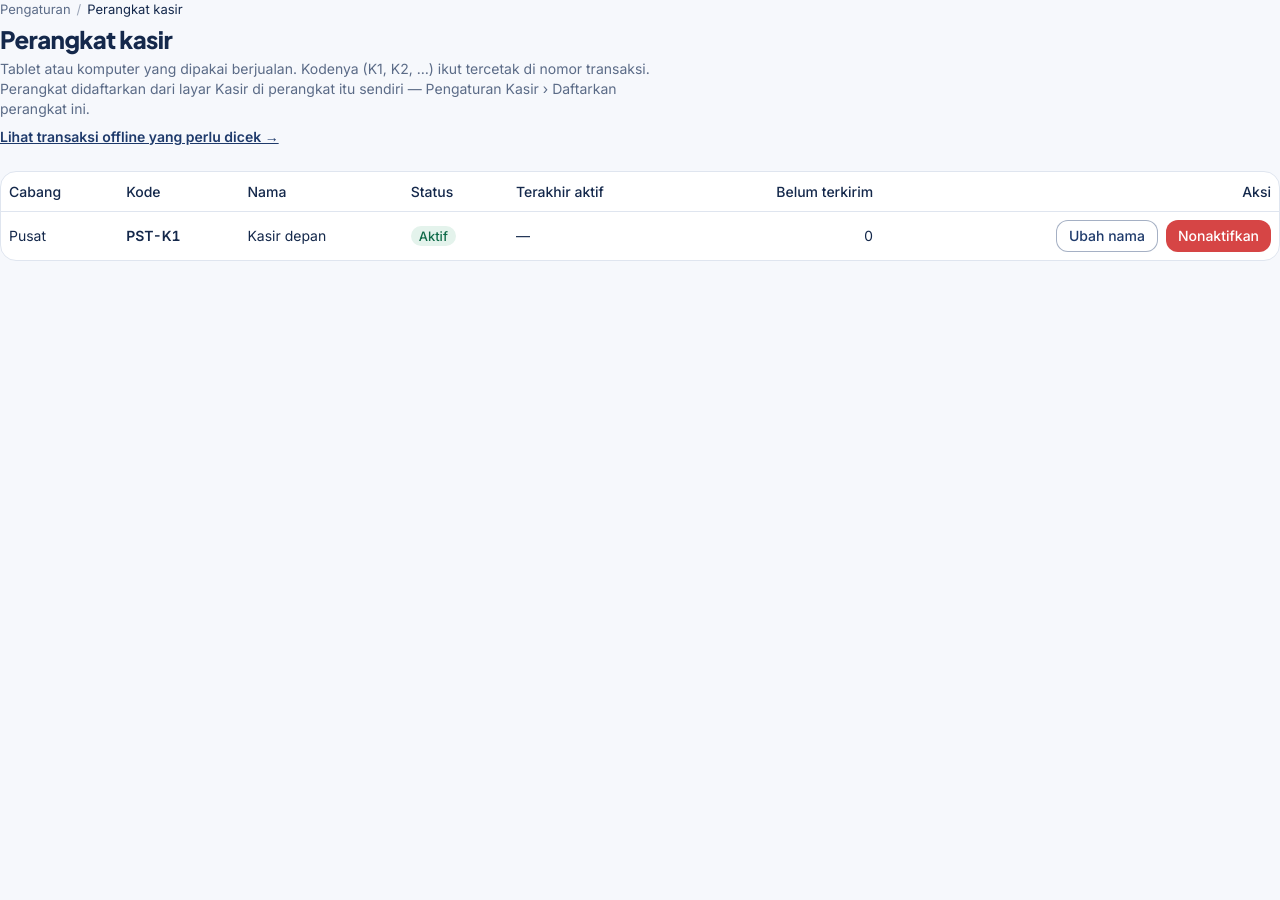
Test: PosDevicesScreen — Nonaktifkan perangkat › asks before switching a device off, then sends isActive: false
The image size is (1280, 900).
Click the button "Nonaktifkan" at (1218, 236), box top-left (1166, 220), bottom-right (1271, 252)
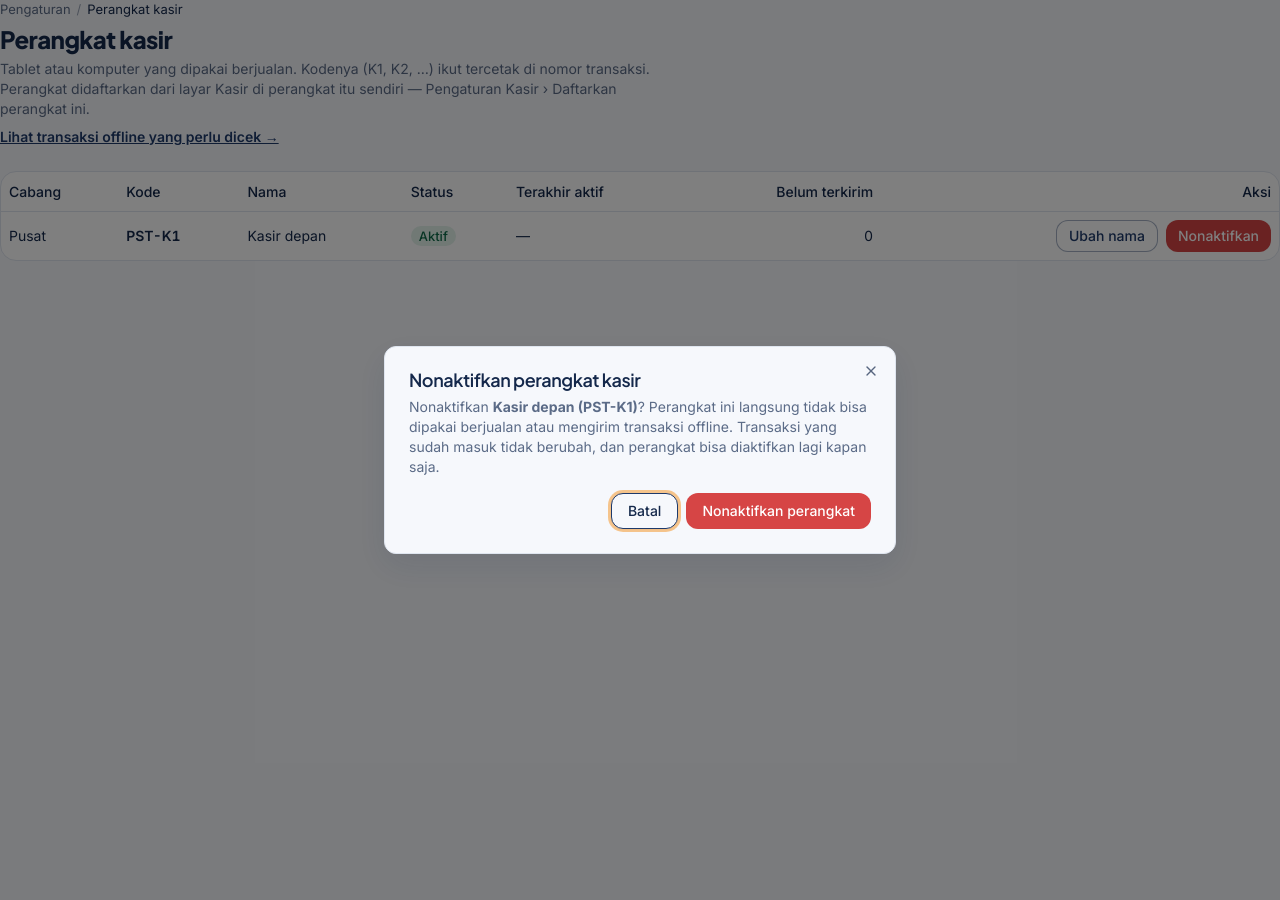
Result: the dialog "Nonaktifkan perangkat kasir" shows "Kasir depan (PST-K1)" at top-left (493, 398), bottom-right (638, 415)
Result: the dialog "Nonaktifkan perangkat kasir" shows "bisa diaktifkan lagi" at top-left (409, 418), bottom-right (866, 475)
Click the button "Nonaktifkan perangkat" at (779, 511), box top-left (686, 493), bottom-right (871, 529)
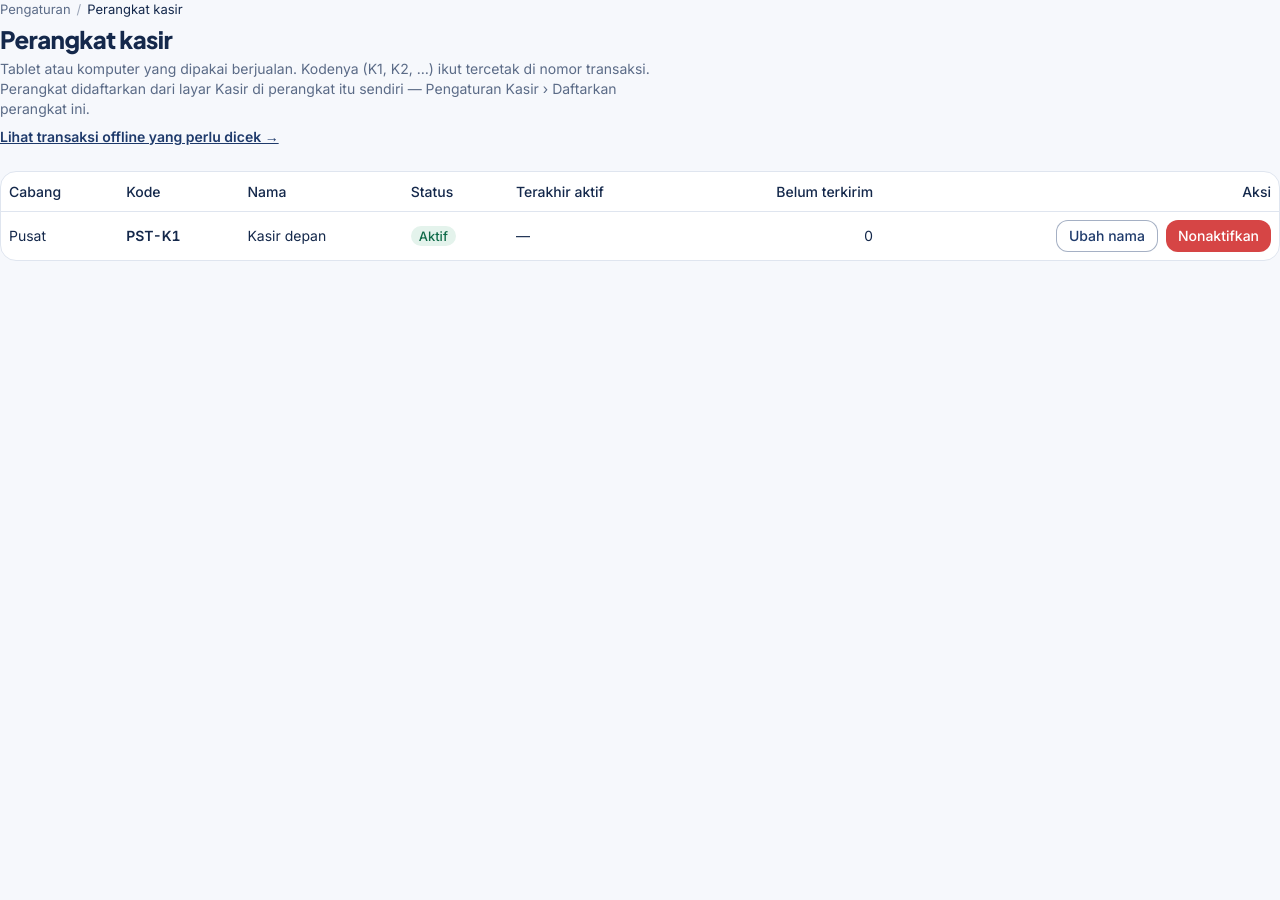
Result: the dialog is gone
